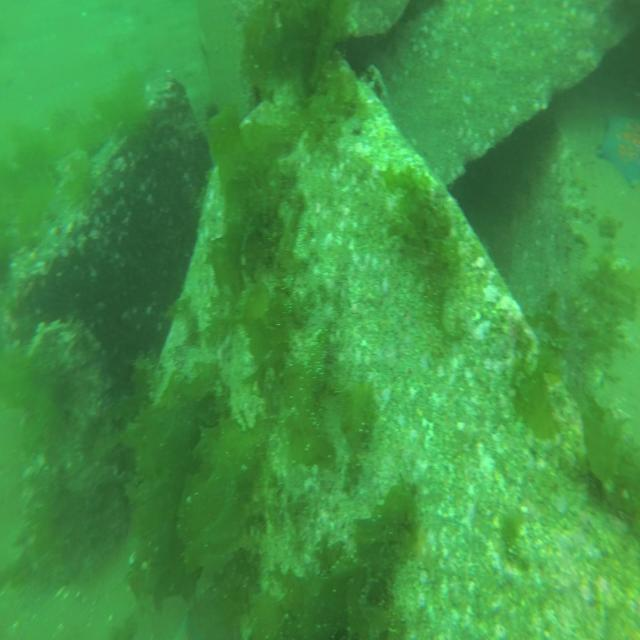echinus: (204, 103, 220, 123)
starfish: (598, 114, 640, 187)
